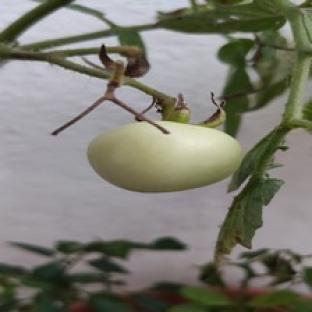Tomato: (88, 122, 242, 192)
